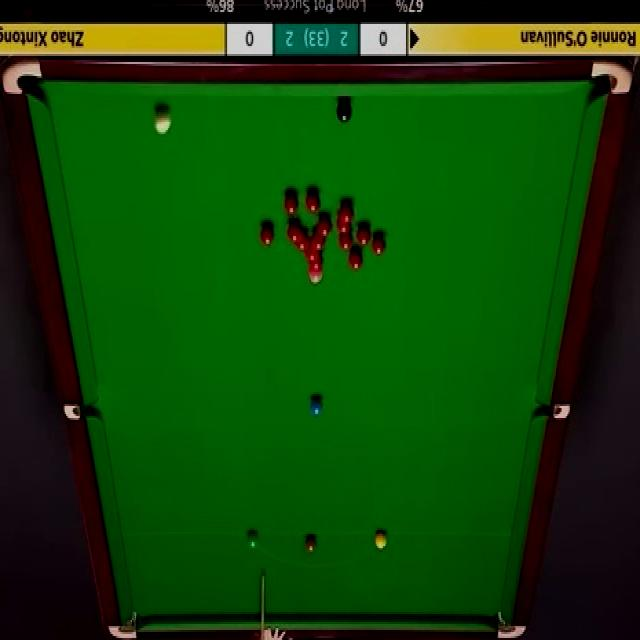black-ball: (337, 98, 352, 126)
blue-ball: (310, 393, 324, 418)
brown-ball: (306, 534, 318, 552)
green-ball: (247, 530, 258, 550)
pink-ball: (308, 272, 324, 286)
red-ball: (369, 232, 387, 257), (355, 221, 372, 247), (338, 198, 353, 223), (283, 193, 299, 216), (259, 224, 275, 247), (305, 191, 321, 213), (287, 220, 301, 244), (348, 250, 362, 274), (317, 215, 332, 237), (338, 230, 353, 250), (311, 233, 327, 249), (336, 215, 350, 233), (293, 232, 308, 248), (304, 249, 322, 262), (308, 260, 324, 270)
white-ball: (152, 106, 173, 136)
yellow-ball: (373, 530, 388, 551)
